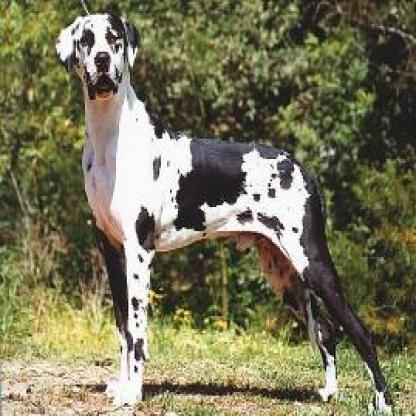Great_Dane: (51, 9, 399, 412)
